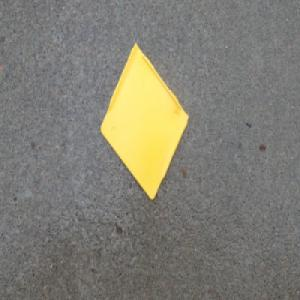PlasticPart: (99, 42, 189, 202)
